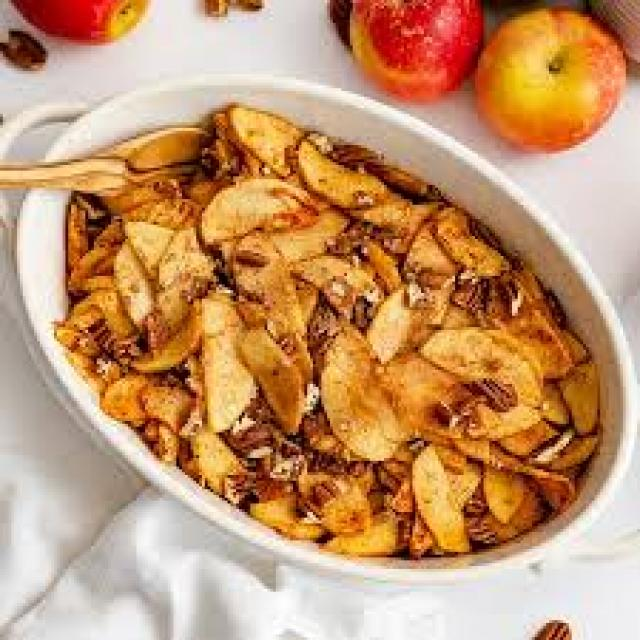Apple: (483, 11, 622, 149), (351, 1, 482, 99), (12, 0, 156, 47)
